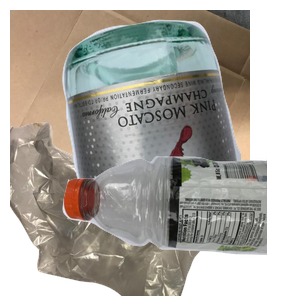cardboard: (10, 10, 250, 190)
glass: (60, 17, 300, 197)
plastic: (60, 152, 300, 300)
trash: (10, 120, 231, 300)
